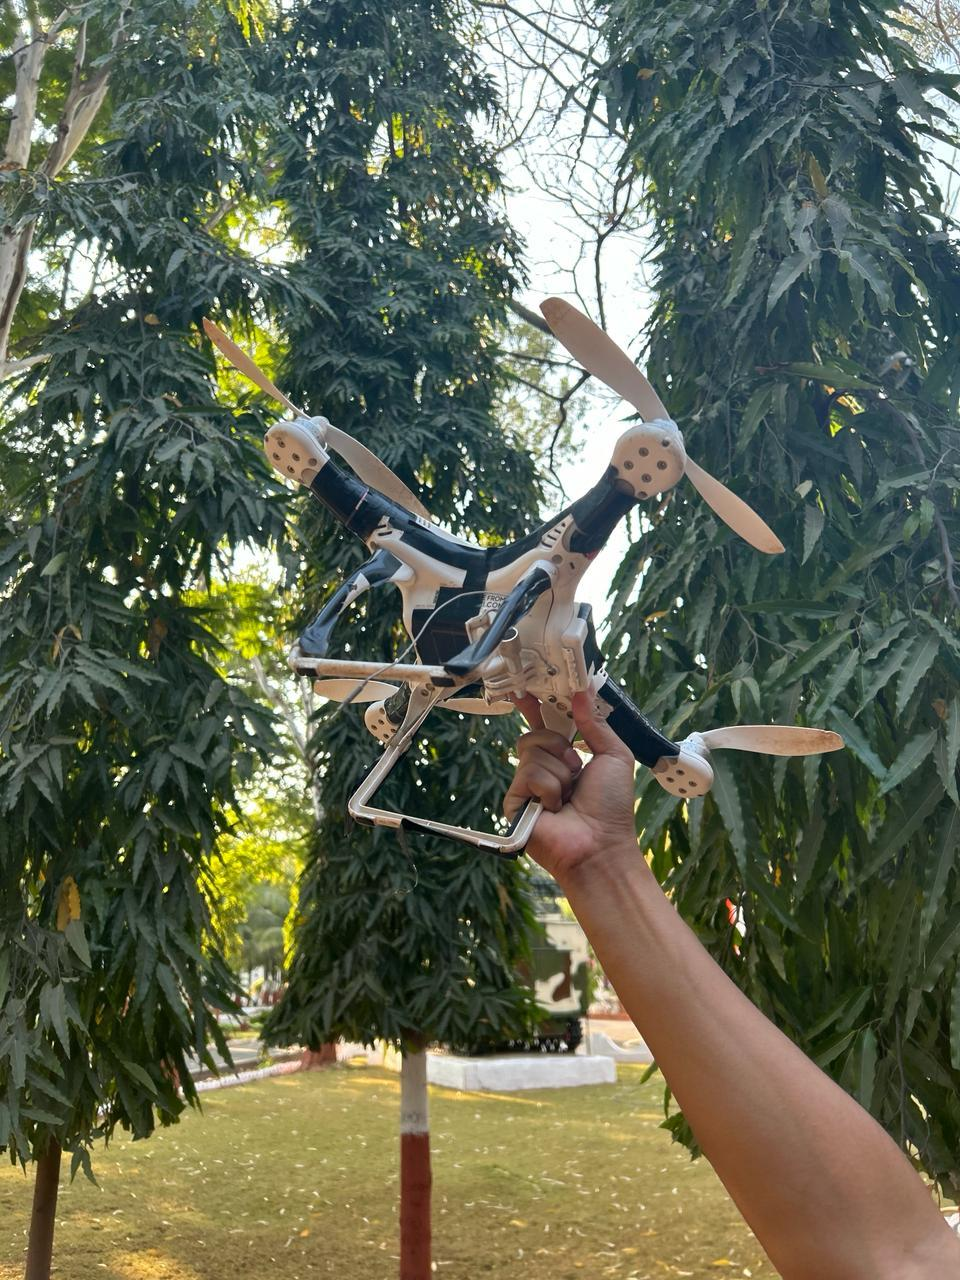drone: (177, 290, 879, 900)
